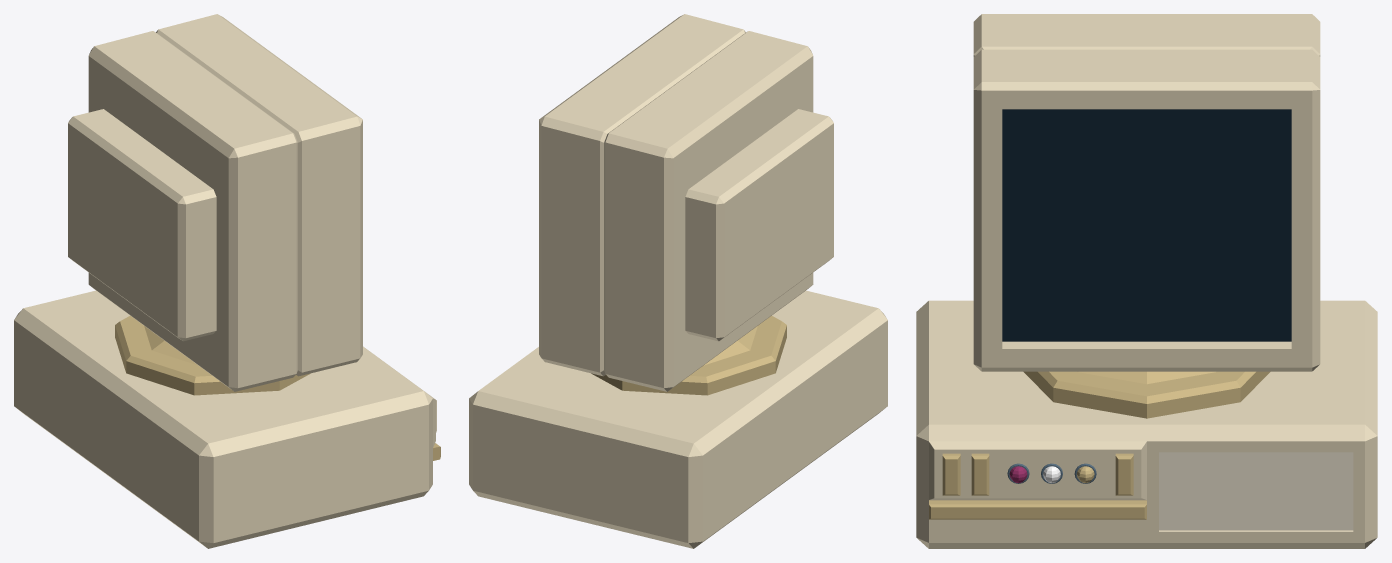
Rendered from SM_Computer.fbx.
The picture shows the model from 3 angles, left to right: view 1: azimuth 30°, elevation 25°; view 2: azimuth 150°, elevation 25°; view 3: azimuth 270°, elevation 25°; orthographic projection. The views are drawn at different scales.
Parts seen in each view (by area): view 1: Cube.015; view 2: Cube.015; view 3: Cube.015.
Boxes of the visible parts, x1=… form: Cube.015: x1=14, y1=14, x2=440, y2=548; Cube.015: x1=469, y1=14, x2=887, y2=548; Cube.015: x1=916, y1=14, x2=1377, y2=548.
Size of the model in its own units: 87.84 by 64.13 by 92.72.
